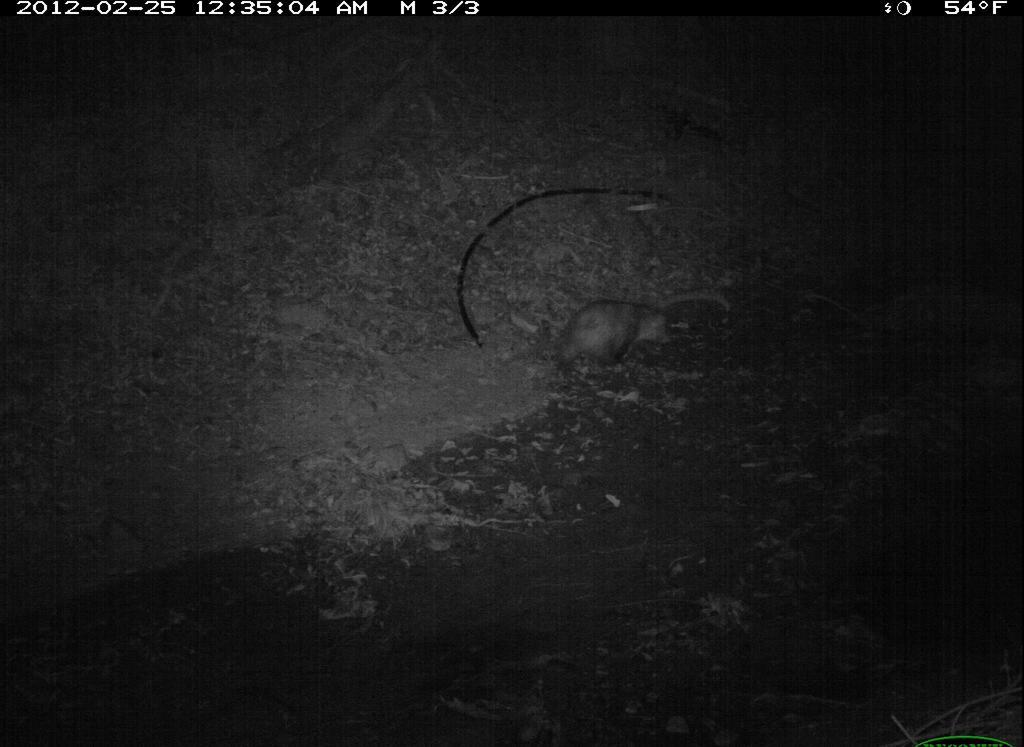opossum: (534, 268, 710, 395)
